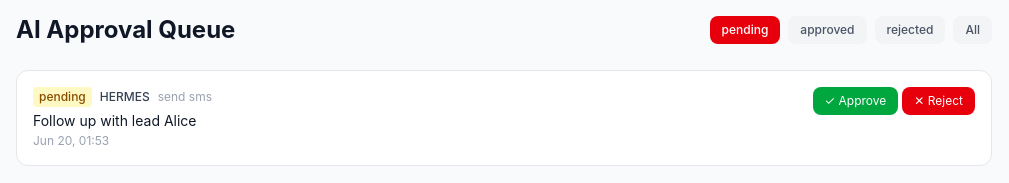
it: ApprovalQueue › disables Approve button when mutation is pending
Click the button "✓ Approve" at (856, 101), box [813,87,898,115]
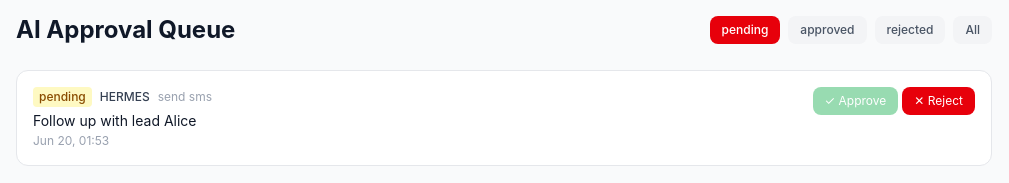
Now the button "✓ Approve" is disabled, box [813,87,898,115]
